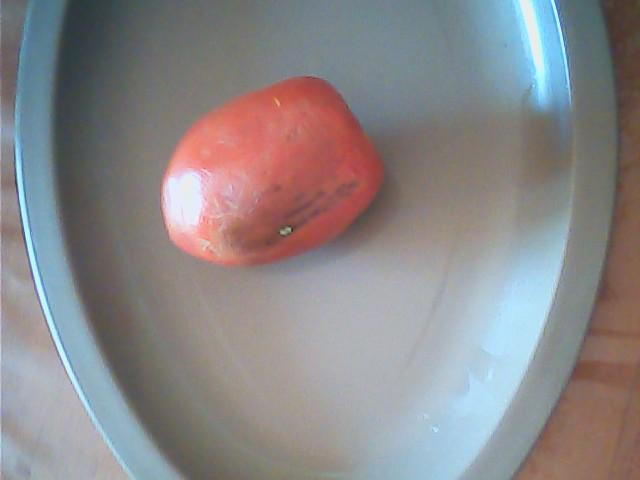defectuoso: (162, 74, 388, 269)
